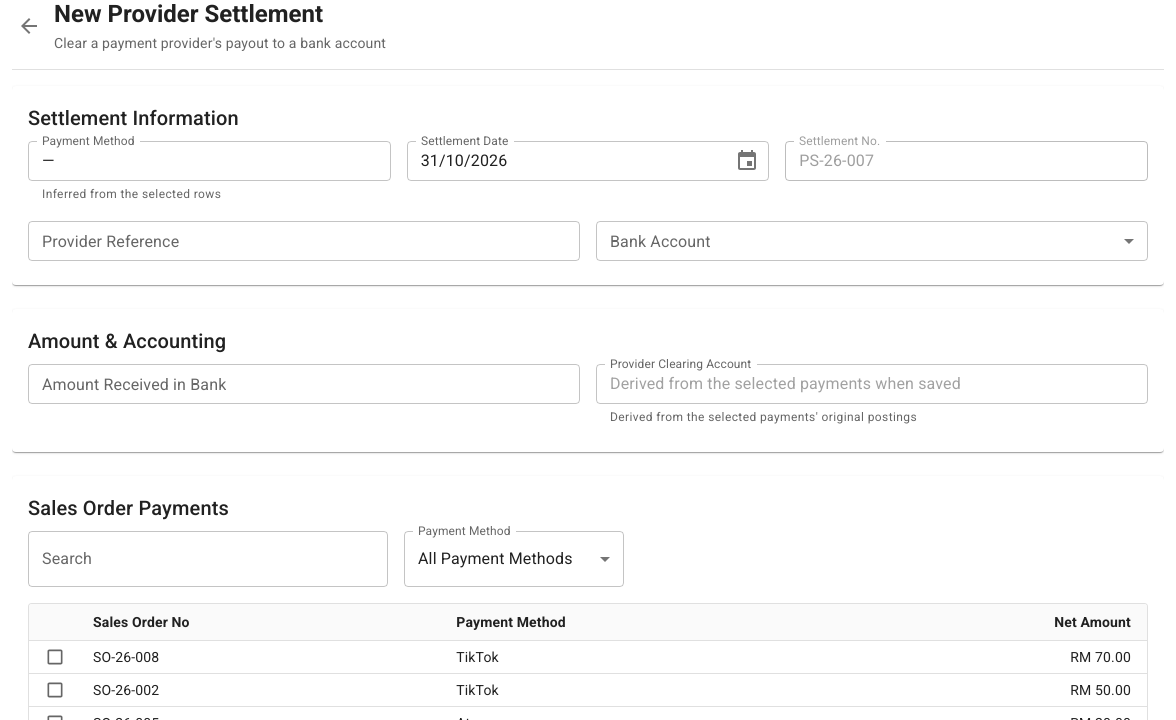
Test case: ProviderSettlementFormPage layout (#1277) › shows only Cancel and Create Settlement when creating (#1281)
Click the checkbox named "SO-26-008 TikTok": (55, 657) [45,647,65,667]
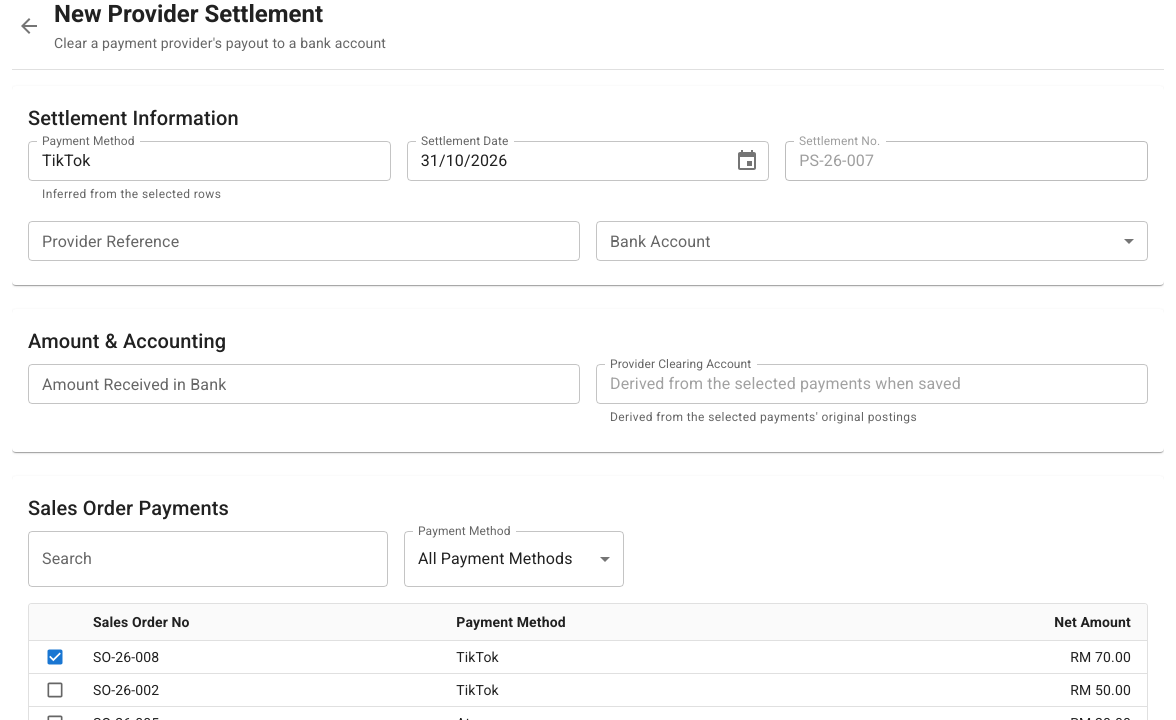
Click the dropdown named "Bank Account": (872, 241) [596,221,1148,261]
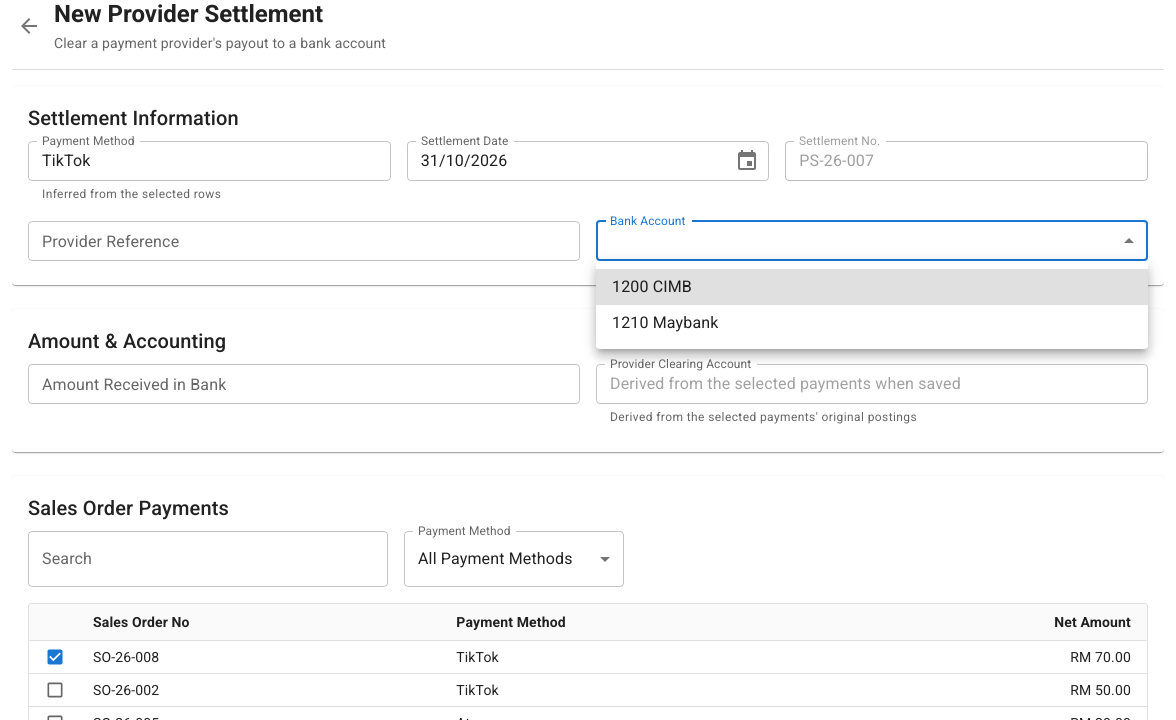
Expected: the option "1200 CIMB" is shown
Click the option "1200 CIMB": (652, 286) [596,269,1148,305]
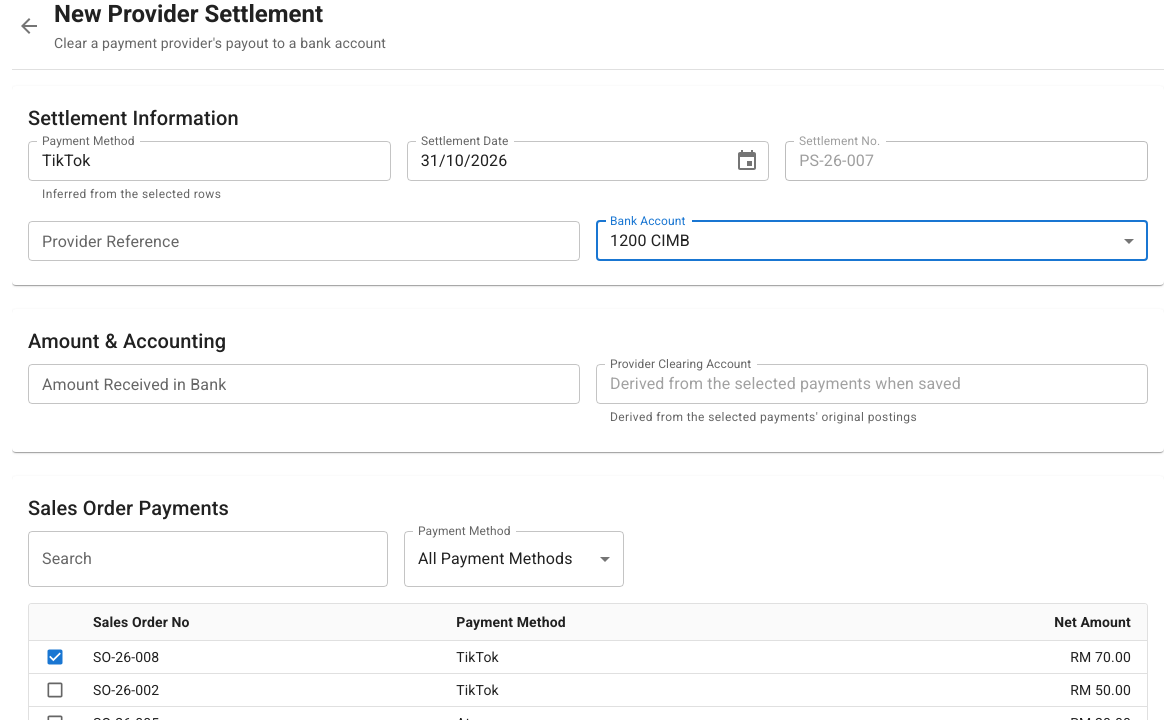
In the field labelled "Amount Received in Bank": (304, 384) [28,364,580,404], type "70"
(page scrolled)
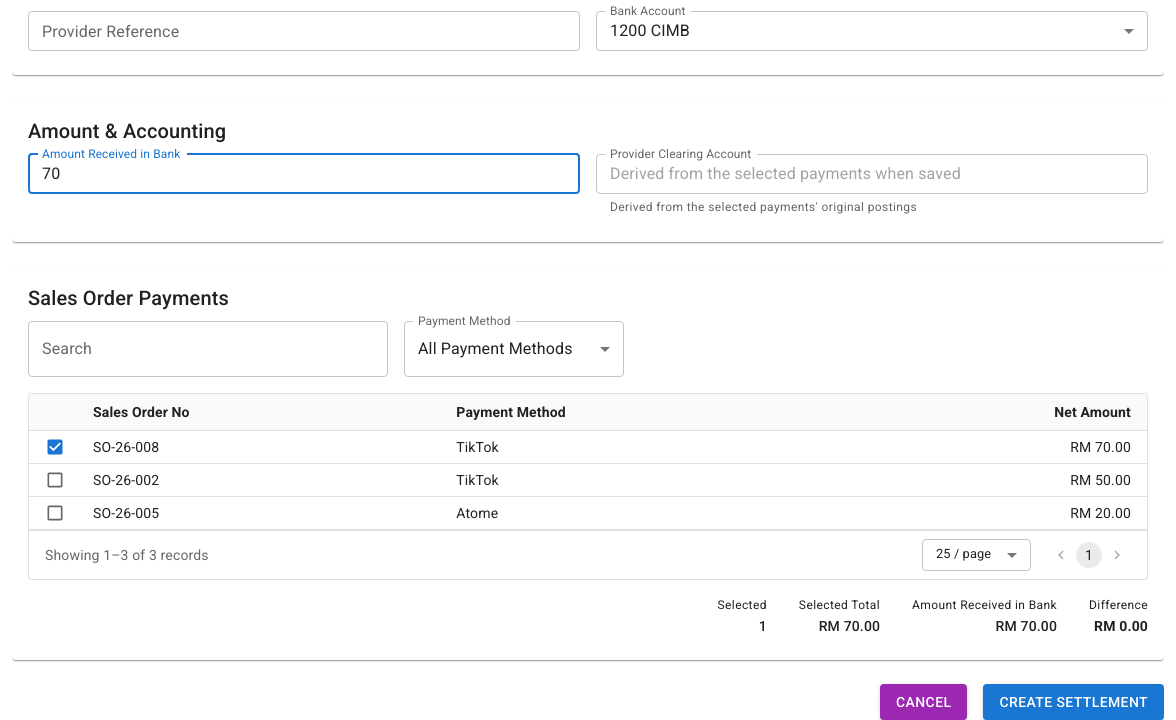
Expected: the button "Cancel" is enabled, [880,684,967,719]
Expected: the button "Create Settlement" is enabled, [983,684,1164,719]
